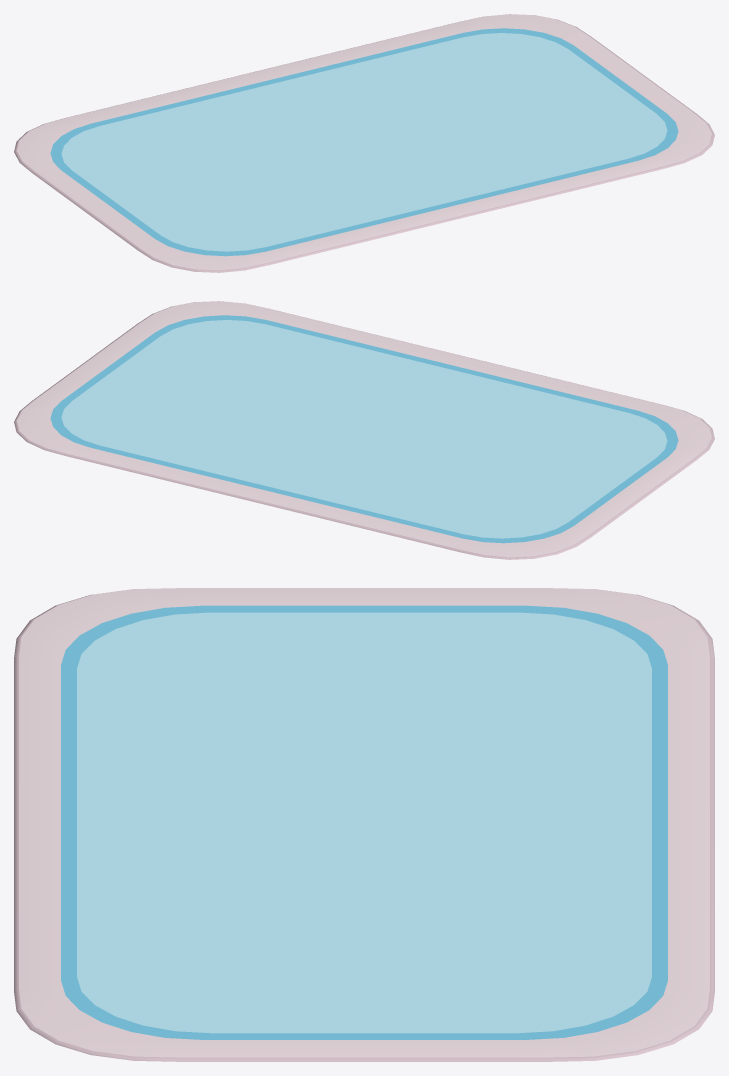
File: floor_box_sharks.fbx
3 renders of one model, top to bottom at view 1: azimuth 30°, elevation 25°; view 2: azimuth 150°, elevation 25°; view 3: azimuth 270°, elevation 25°, orthographic. The views are drawn at different scales.
Parts seen in each view (by area): view 1: floor_box_sharks; view 2: floor_box_sharks; view 3: floor_box_sharks.
Part boxes in pixels (left/top/right/bottom): floor_box_sharks: left=14, top=14, right=714, bottom=272; floor_box_sharks: left=14, top=301, right=714, bottom=559; floor_box_sharks: left=14, top=588, right=714, bottom=1061.
Size of the model in its own units: 814 by 1.72 by 509.
